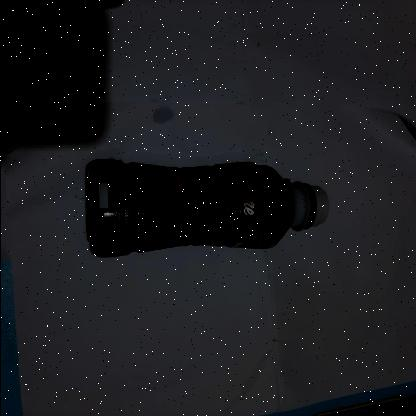Plastic Bottle: (86, 160, 330, 260)
